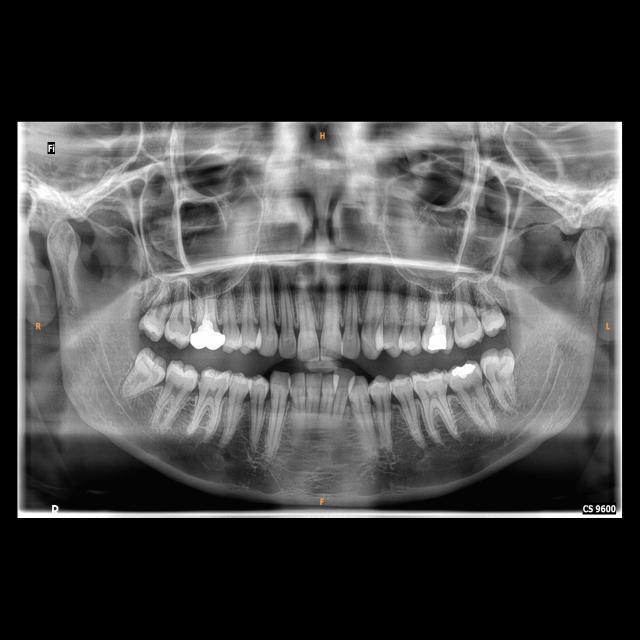dolgu: (423, 323, 453, 355), (446, 361, 482, 387)
kanal-tedavisi: (194, 290, 213, 325), (428, 292, 447, 325)
kaplama: (192, 317, 226, 351)
